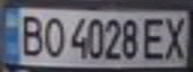0: (87, 15, 106, 61)
2: (103, 15, 124, 61)
4: (66, 13, 87, 60)
8: (121, 15, 142, 61)
B: (15, 11, 48, 57)
E: (139, 14, 169, 61)
O: (39, 12, 66, 60)
X: (160, 12, 193, 61)
